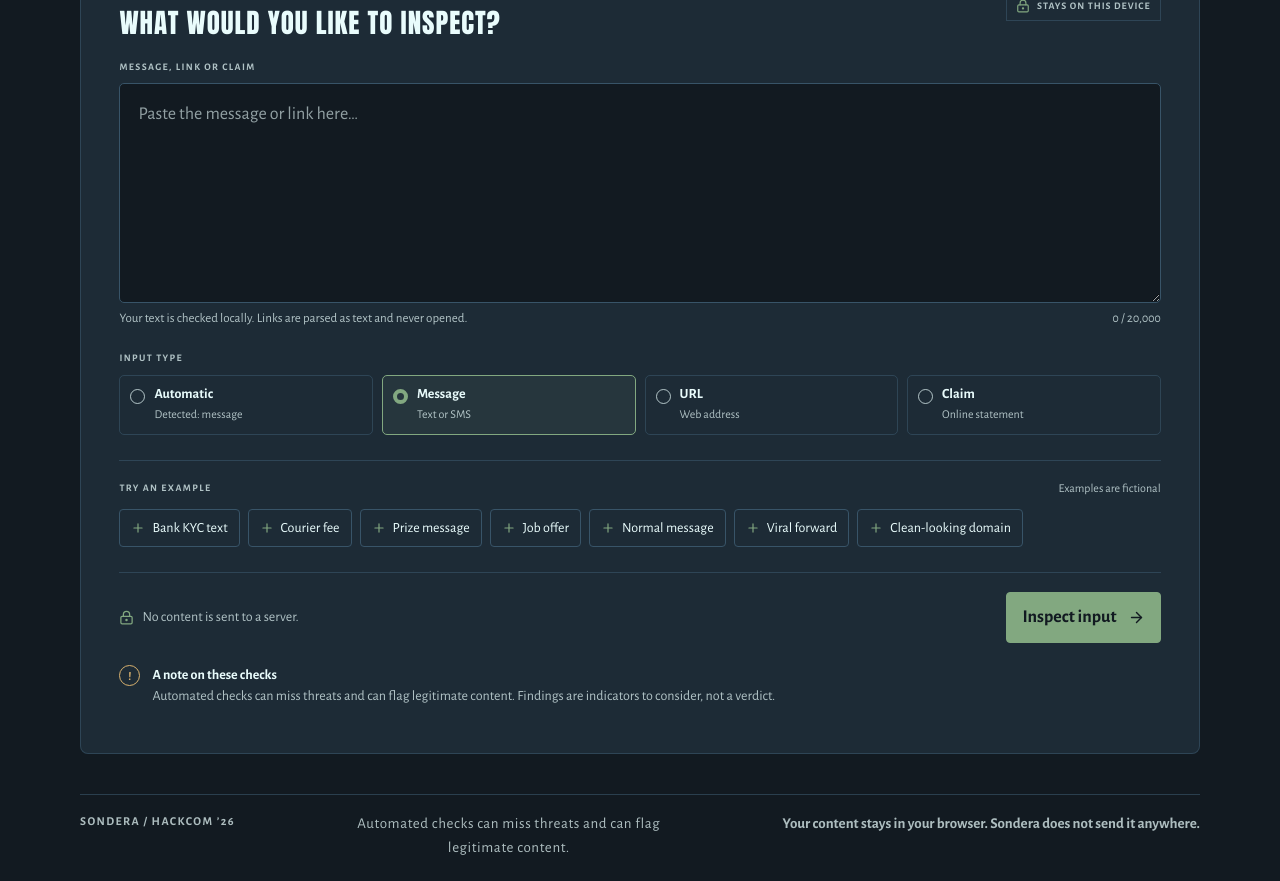
Sondera Submit and Inspect › opens Investigate, lets the user check questions, and updates the date timeline
(page scrolled)
Click the button "Normal message" at (657, 528), box x1=589 y1=509 x2=726 y2=547
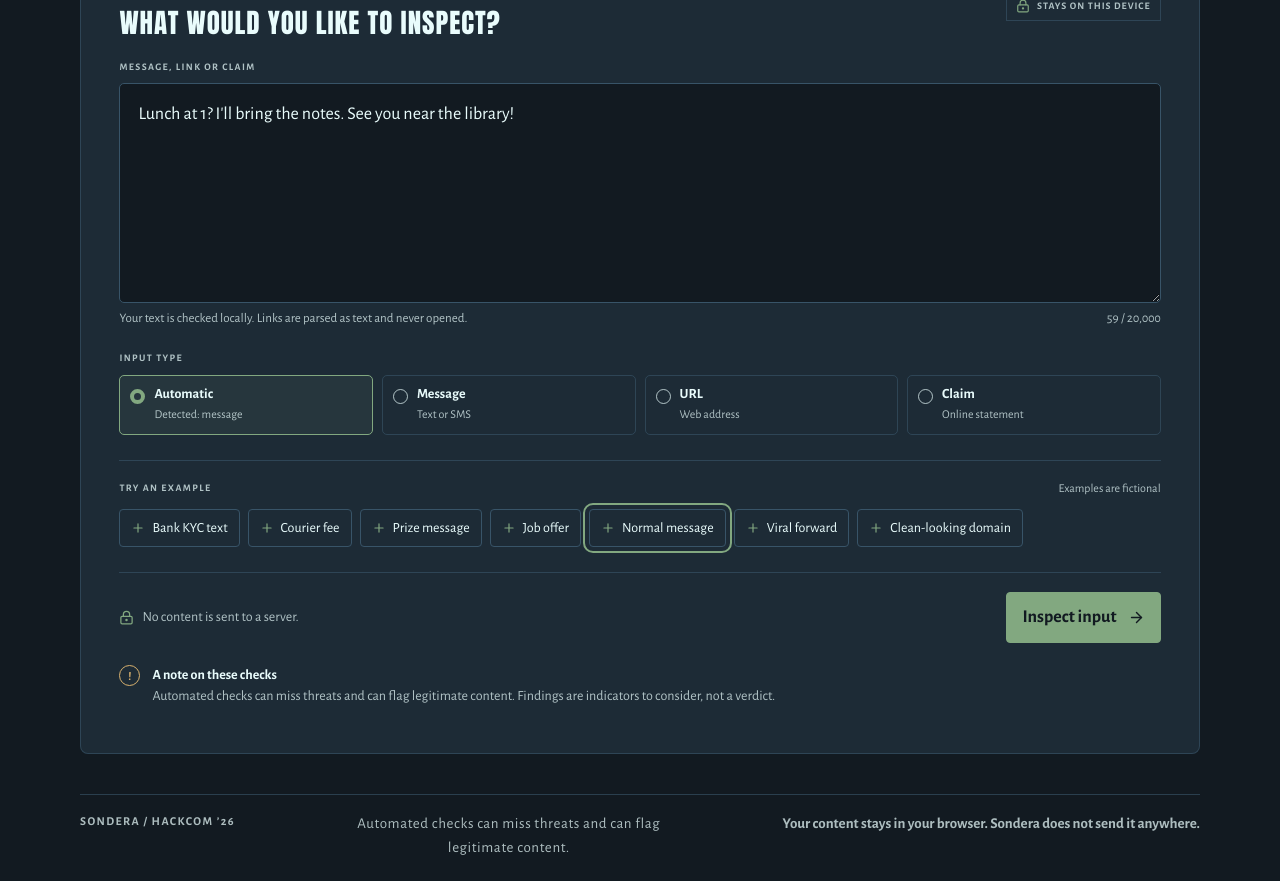
Click the button "Inspect input" at (1084, 618), box x1=1006 y1=592 x2=1161 y2=643
(page scrolled)
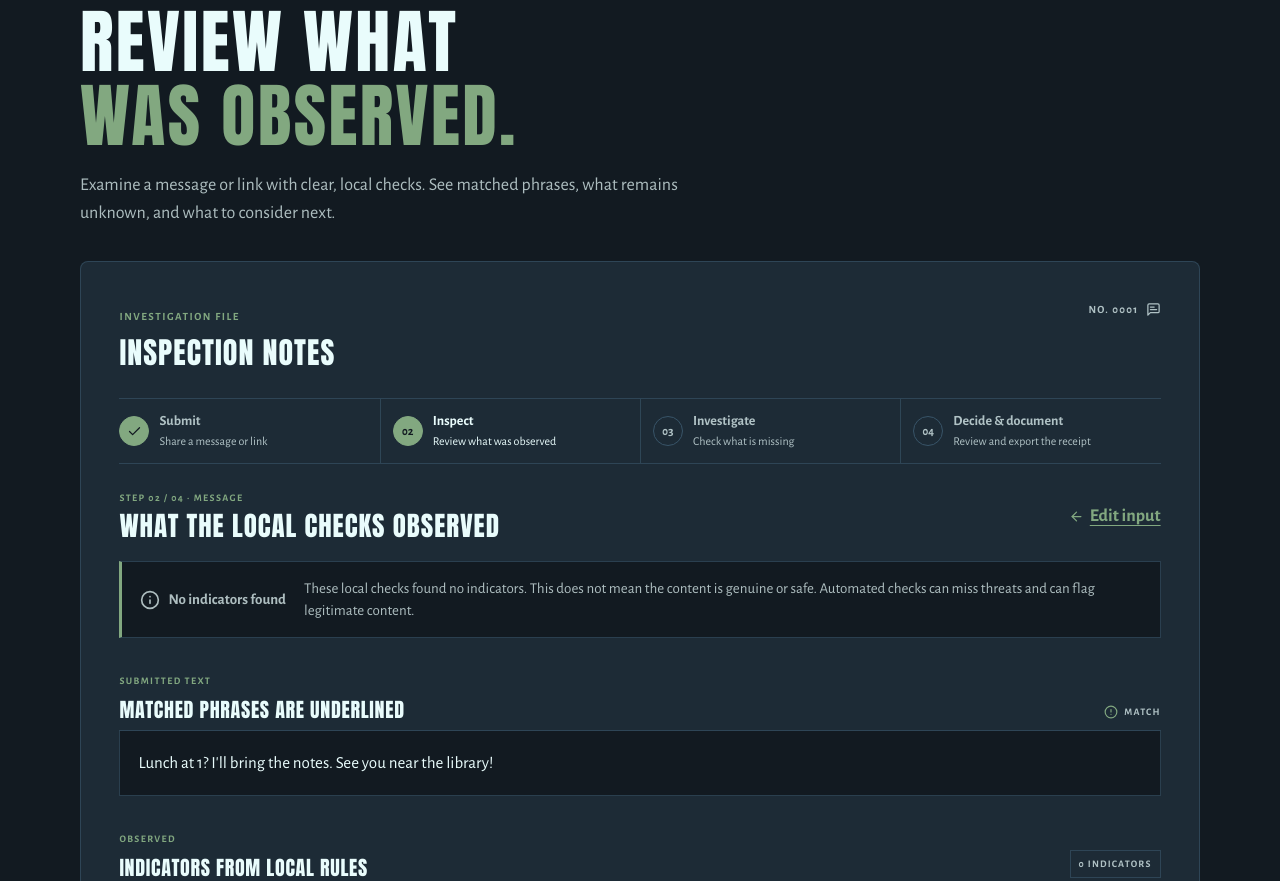
Click the button "03 Investigate Check what is missing" at (724, 421), box x1=640 y1=399 x2=900 y2=463
(page scrolled)
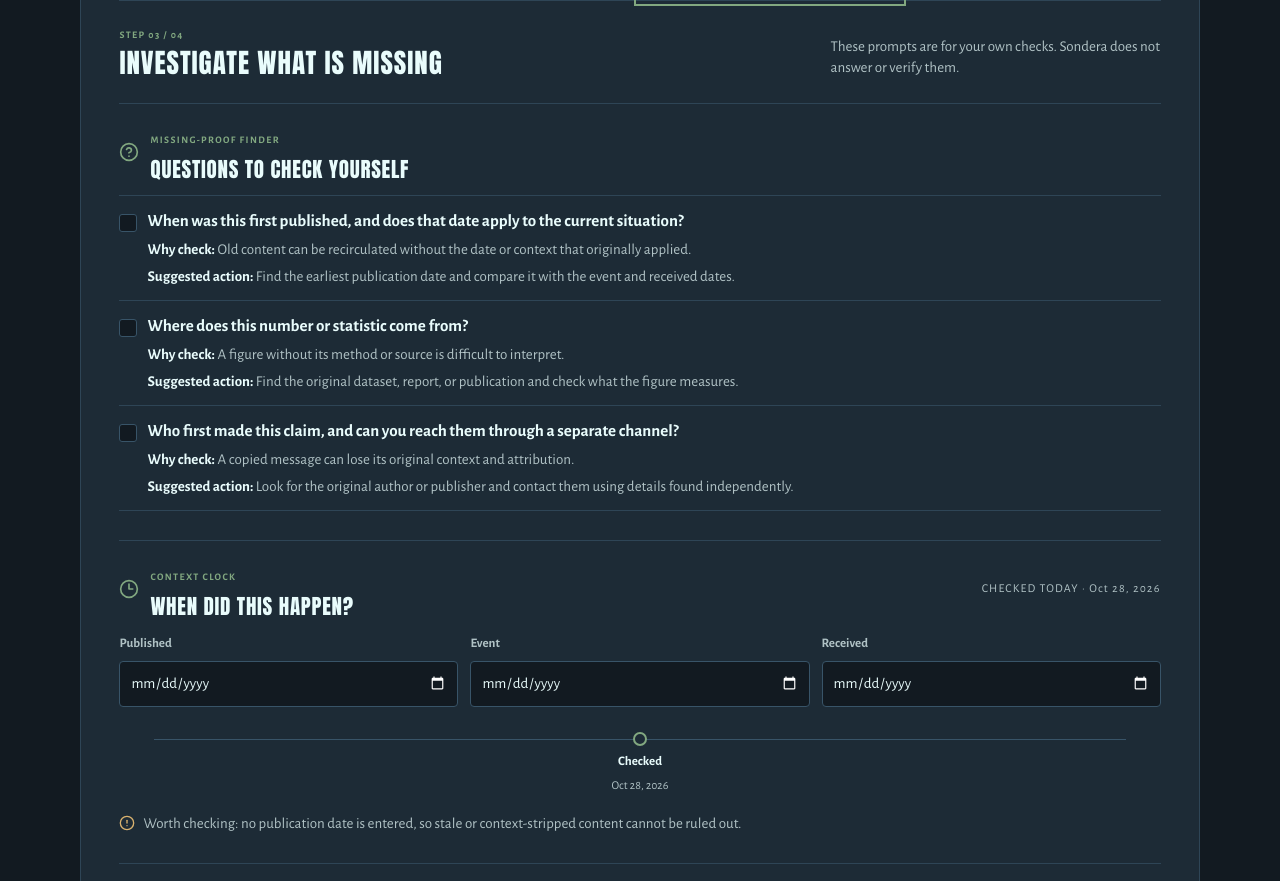
Expected: the heading "Questions to check yourself" is shown, x1=150 y1=158 x2=409 y2=180
Click the checkbox labelled "Who first made this claim" at (399, 431), box x1=119 y1=420 x2=678 y2=443
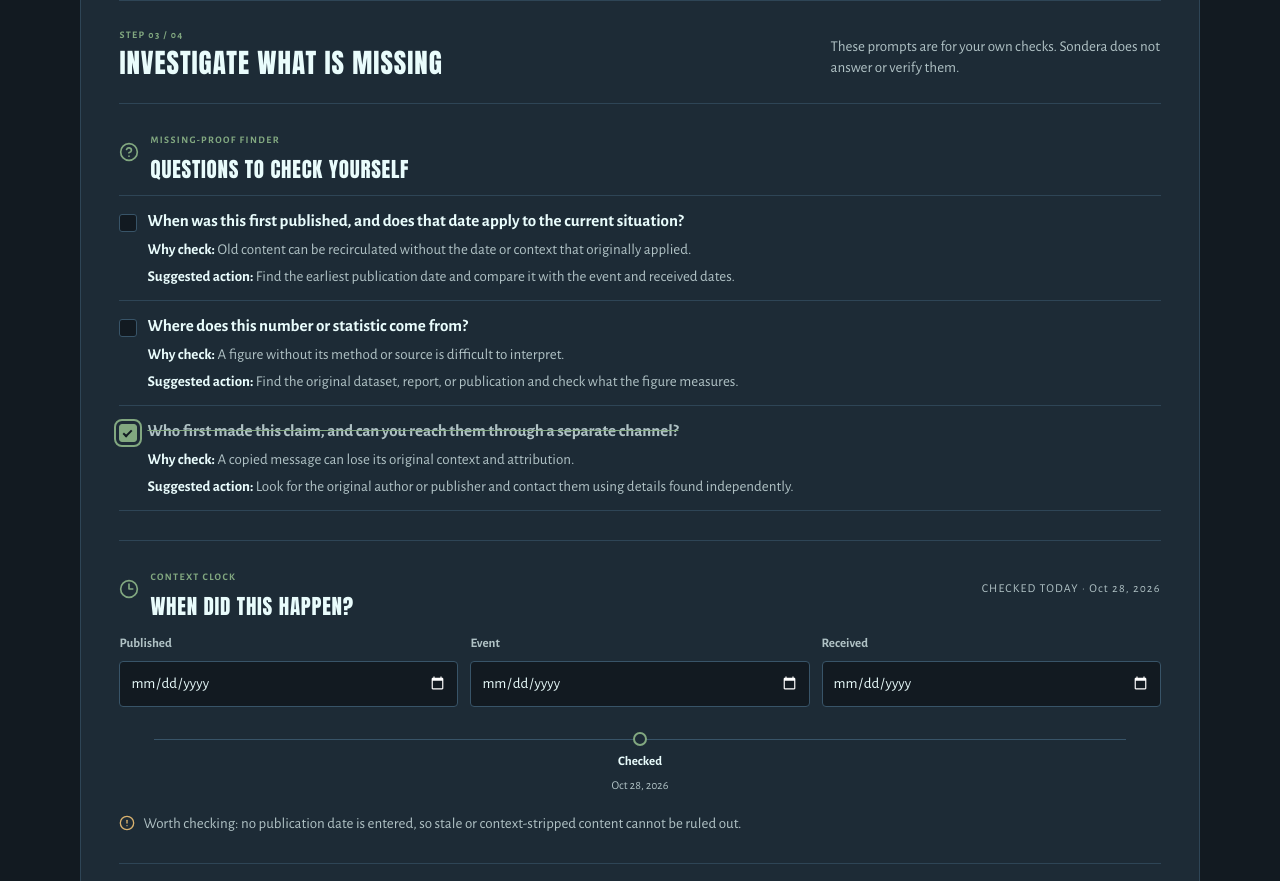
Expected: the checkbox labelled "Who first made this claim" is checked, x1=119 y1=420 x2=678 y2=443
Expected: the text "no publication date is entered" is shown, x1=143 y1=816 x2=741 y2=830
Type "2024-01-01" into the date field labelled "Published" at (289, 684), box x1=119 y1=660 x2=458 y2=706
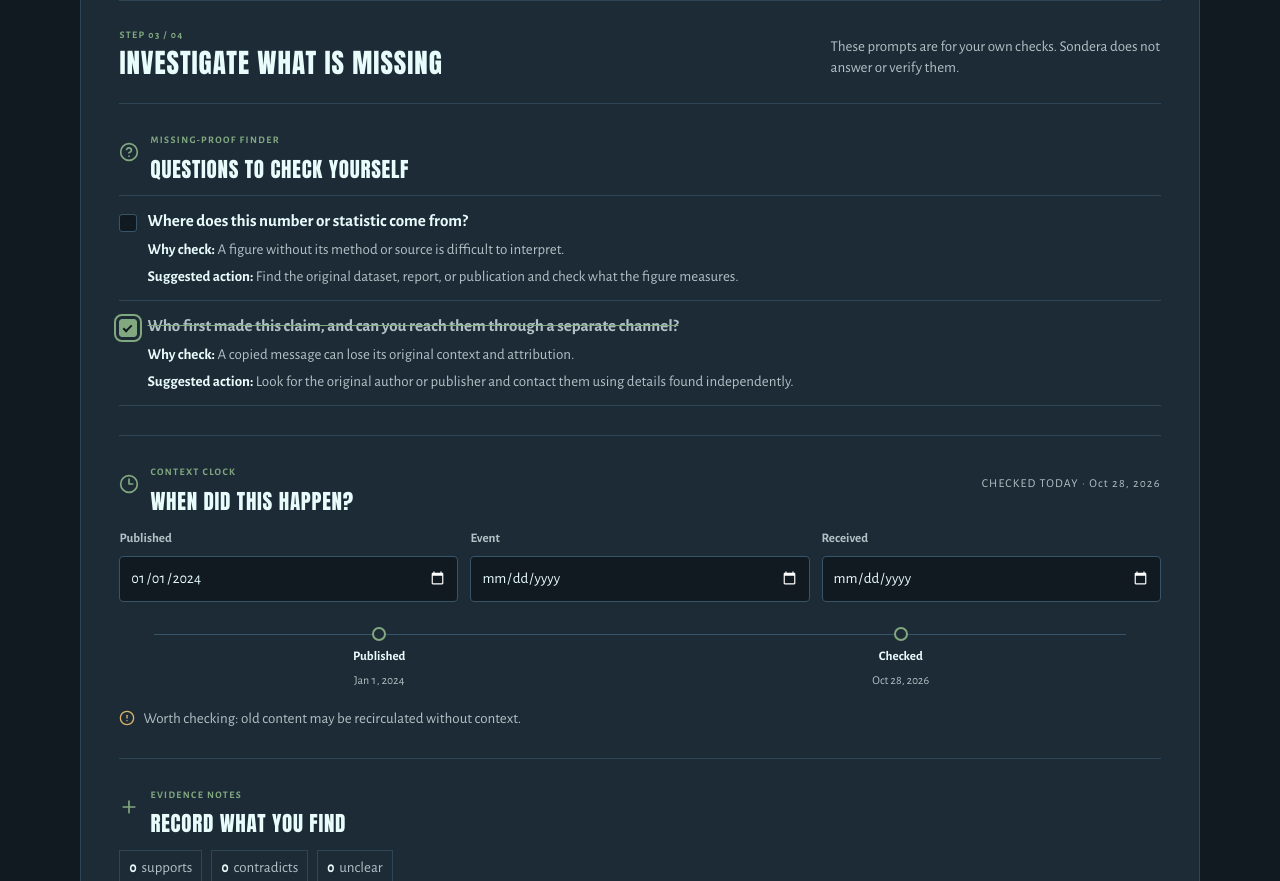
Type "2024-05-15" into the date field labelled "Received" at (991, 579), box x1=822 y1=556 x2=1161 y2=602
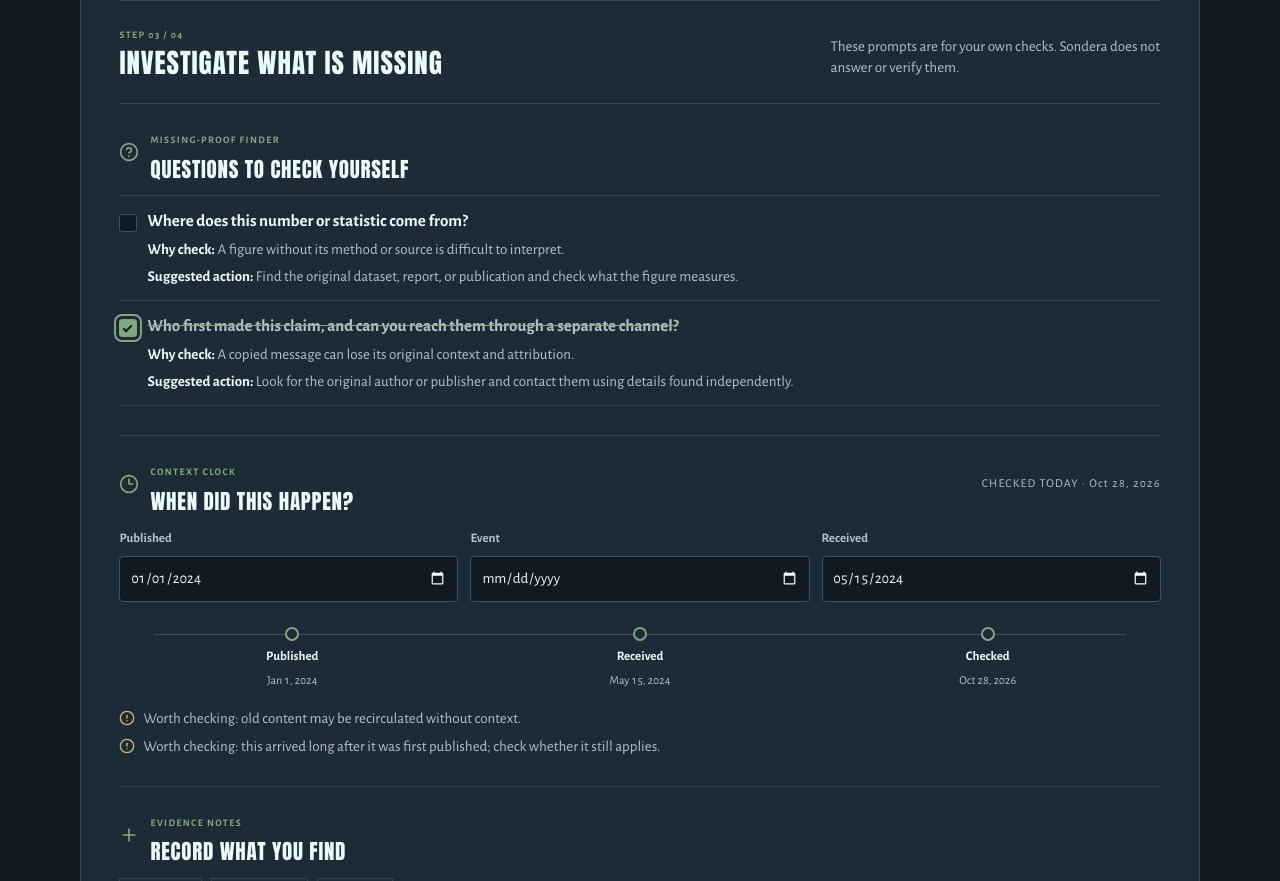
Expected: the text "old content may be recirculated" is shown, x1=143 y1=711 x2=521 y2=726
Expected: the list named "entered dates from earliest to latest" shows "Published", x1=266 y1=650 x2=318 y2=663
Expected: the text "arrived long after it was first published" is shown, x1=143 y1=739 x2=660 y2=754
